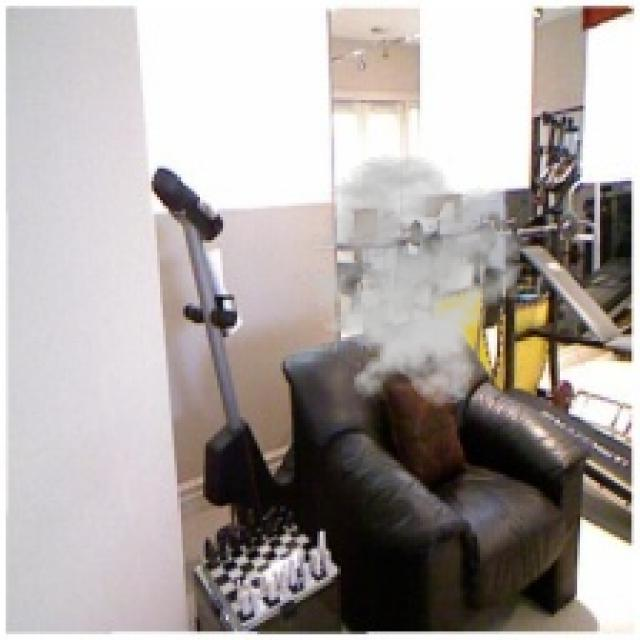smoke: (286, 154, 537, 409)
